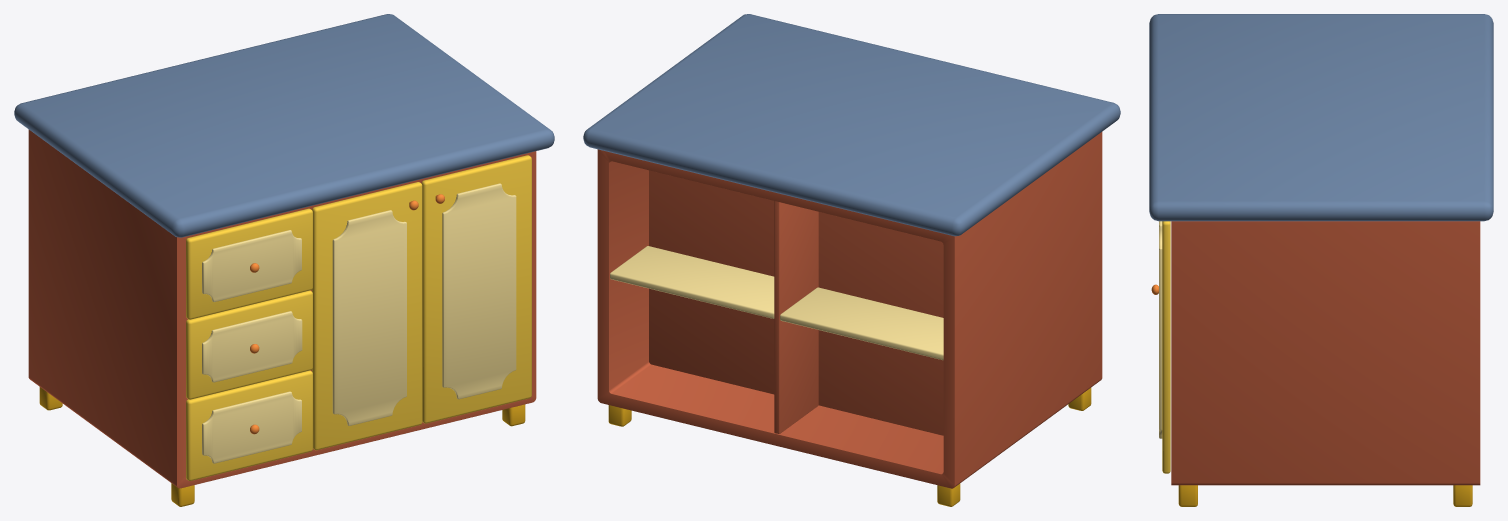
The model's file is ilha_cozinha_classica.glb.
3 renders of one model, left to right at view 1: azimuth 30°, elevation 25°; view 2: azimuth 150°, elevation 25°; view 3: azimuth 270°, elevation 25°, orthographic. The views are drawn at different scales.
Parts seen in each view (by area): view 1: ilha_cozinha_classica, porta_1, porta_2, gaveta_1, gaveta_3, gaveta_2; view 2: ilha_cozinha_classica; view 3: ilha_cozinha_classica, porta_2.
Part boxes in pixels (x1,y1,x2,y2): ilha_cozinha_classica: (14, 14, 554, 506); porta_1: (312, 182, 422, 450); porta_2: (421, 155, 531, 423); gaveta_1: (186, 208, 312, 319); gaveta_3: (186, 370, 312, 480); gaveta_2: (186, 290, 312, 399); ilha_cozinha_classica: (583, 14, 1120, 506); ilha_cozinha_classica: (1149, 14, 1493, 506); porta_2: (1159, 221, 1170, 473).
Bounding box in the file's own units: 1.2 × 0.9 × 0.9.
1 material, 1 textured.
